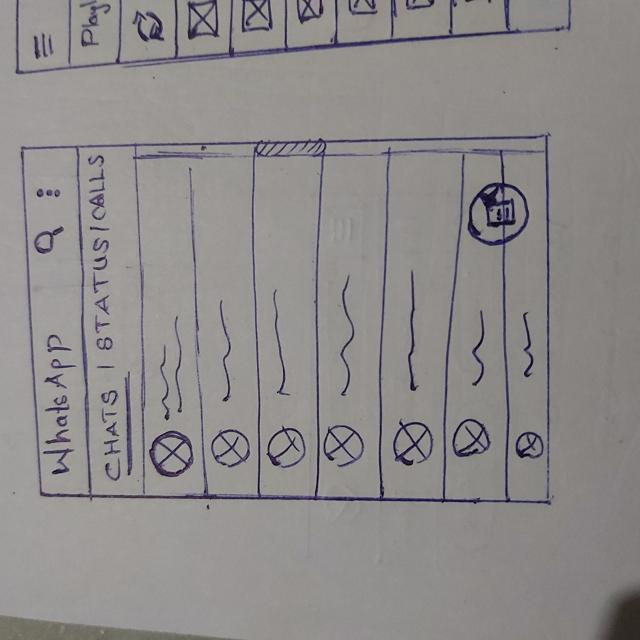ActionButton: (29, 222, 70, 259), (29, 185, 68, 204)
AppBar: (18, 143, 92, 505)
Fab: (463, 183, 533, 249)
Layout: (316, 151, 385, 500), (191, 161, 261, 495), (255, 155, 322, 499), (140, 159, 207, 497), (445, 152, 507, 498), (387, 150, 447, 503), (500, 151, 552, 503)
ListView: (135, 156, 552, 504)
MainLayout: (15, 136, 555, 508)
RoundedImage: (152, 433, 197, 483), (391, 420, 437, 466), (265, 424, 309, 472), (322, 421, 366, 466), (210, 428, 252, 471), (451, 418, 493, 459), (514, 431, 544, 462)
ScrollBar: (135, 143, 550, 152)
Tab: (75, 143, 148, 500)
TabItem: (83, 231, 131, 361), (87, 370, 139, 489), (78, 145, 129, 226)
TextView: (392, 260, 436, 409), (39, 334, 78, 482), (261, 279, 304, 413), (206, 295, 247, 416), (332, 266, 361, 411), (152, 315, 189, 425), (464, 306, 496, 394), (512, 301, 540, 388)
VerticalListView: (137, 155, 553, 503)
